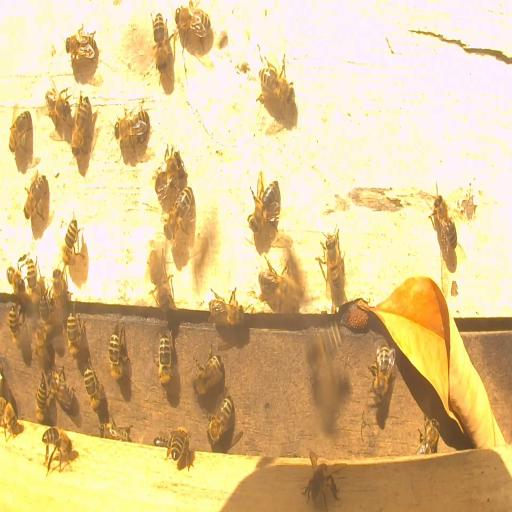bee: (257, 58, 296, 114), (430, 187, 459, 252), (147, 246, 172, 317), (248, 179, 280, 233), (162, 188, 196, 237), (18, 173, 48, 224), (153, 149, 185, 195), (208, 294, 246, 332), (68, 93, 90, 155), (323, 234, 345, 294), (370, 343, 395, 395), (174, 6, 210, 42), (207, 397, 233, 445), (194, 353, 223, 395), (65, 29, 102, 61), (42, 426, 74, 462), (113, 112, 149, 142), (49, 368, 74, 410), (9, 110, 31, 155), (258, 270, 289, 301), (152, 12, 169, 68), (307, 472, 338, 501), (44, 88, 70, 122), (167, 427, 189, 467), (108, 327, 124, 380), (418, 416, 439, 456), (341, 304, 371, 330), (158, 328, 172, 382), (63, 216, 79, 262), (100, 418, 131, 439), (66, 310, 81, 353), (84, 364, 100, 404), (36, 371, 48, 422), (32, 318, 46, 360), (22, 255, 38, 291), (6, 266, 25, 294), (52, 268, 68, 298), (226, 428, 244, 452), (9, 302, 20, 338), (39, 294, 51, 322), (153, 435, 169, 448)
